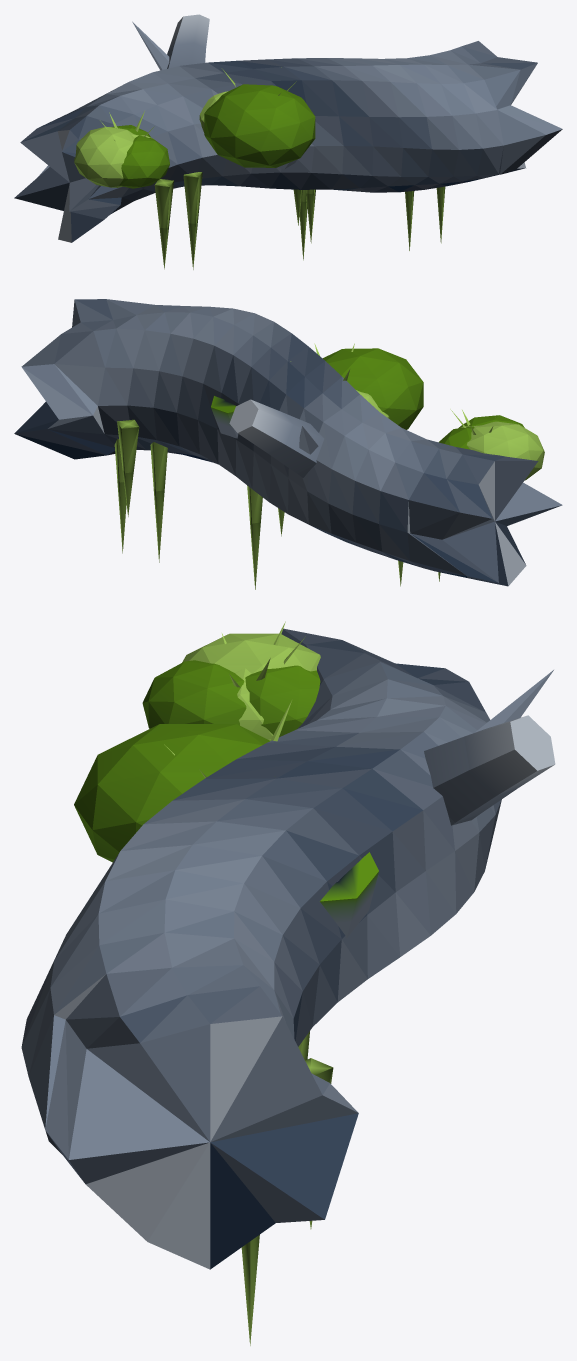
File: pohon_tumbang_bridge_driftwood_512130.glb
The picture shows the model from 3 angles, top to bottom: view 1: azimuth 30°, elevation 25°; view 2: azimuth 150°, elevation 25°; view 3: azimuth 270°, elevation 25°; orthographic projection. The views are drawn at different scales.
Parts seen in each view (by area): view 1: Batang_Melintang_Sungai; view 2: Batang_Melintang_Sungai; view 3: Batang_Melintang_Sungai.
Boxes of the visible parts, x1=… form: Batang_Melintang_Sungai: x1=14, y1=14, x2=562, y2=269; Batang_Melintang_Sungai: x1=14, y1=299, x2=562, y2=589; Batang_Melintang_Sungai: x1=21, y1=621, x2=555, y2=1345.
Bounding box in the file's own units: 5.14 × 2.45 × 2.62.
